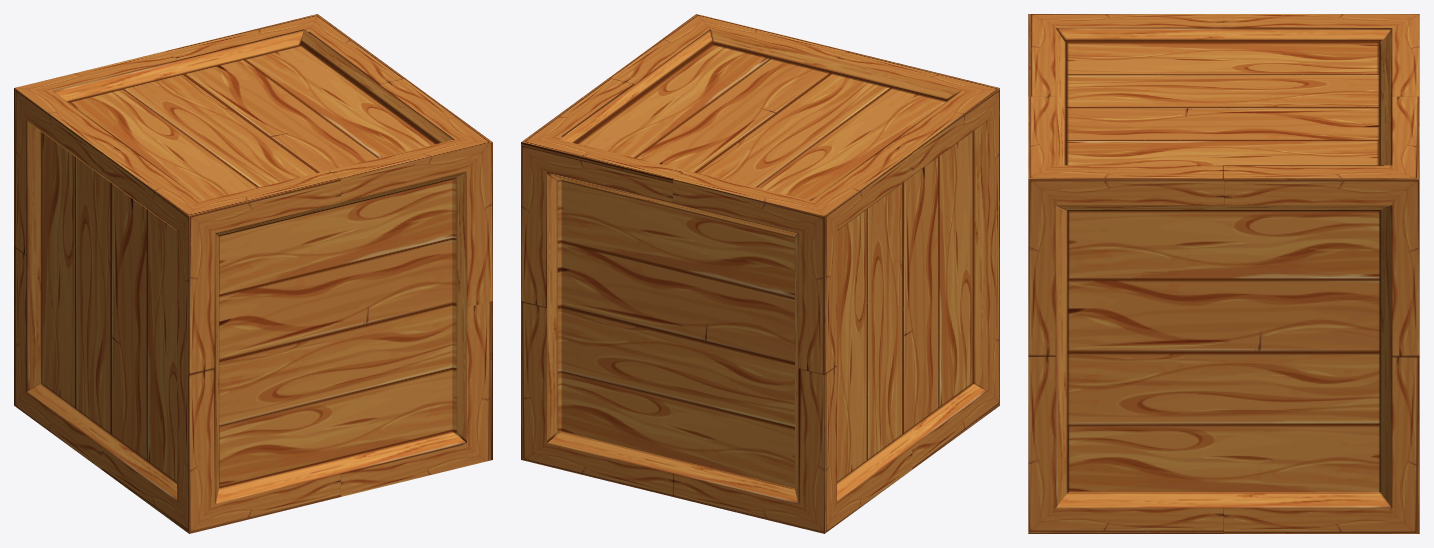
Rendered from caja destrozada.fbx.
3 renders of one model, left to right at view 1: azimuth 30°, elevation 25°; view 2: azimuth 150°, elevation 25°; view 3: azimuth 270°, elevation 25°, orthographic. The views are drawn at different scales.
Parts seen in each view (by area): view 1: 01 trozo caja, 08 trozo caja, 07 trozo caja, 06 trozo caja, 04 trozo caja, 03 trozo caja, 02 rozo caja; view 2: 04 trozo caja, 02 rozo caja, 05 trozo caja, 08 trozo caja, 01 trozo caja, 06 trozo caja, 07 trozo caja; view 3: 01 trozo caja, 02 rozo caja, 05 trozo caja, 03 trozo caja, 08 trozo caja, 04 trozo caja.
Part boxes in pixels (x1,y1,x2,y2): 01 trozo caja: (100, 29, 492, 431); 08 trozo caja: (71, 117, 370, 399); 07 trozo caja: (140, 276, 385, 533); 06 trozo caja: (14, 199, 174, 499); 04 trozo caja: (14, 65, 199, 366); 03 trozo caja: (361, 281, 492, 491); 02 rozo caja: (102, 14, 382, 79); 04 trozo caja: (609, 148, 886, 528); 02 rozo caja: (521, 94, 741, 337); 05 trozo caja: (521, 269, 739, 482); 08 trozo caja: (742, 51, 999, 298); 01 trozo caja: (559, 14, 881, 189); 06 trozo caja: (803, 201, 966, 533); 07 trozo caja: (932, 175, 999, 438); 01 trozo caja: (1028, 54, 1379, 426); 02 rozo caja: (1224, 62, 1419, 491); 05 trozo caja: (1176, 352, 1419, 533); 03 trozo caja: (1028, 356, 1194, 533); 08 trozo caja: (1028, 14, 1320, 131); 04 trozo caja: (1269, 14, 1419, 95).
Bounding box in the file's own units: 59.14 × 59.14 × 59.14.
